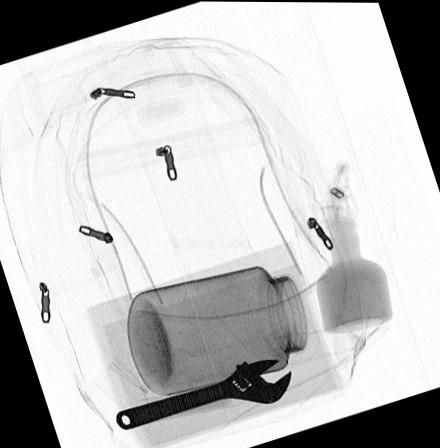Wrench: (112, 356, 294, 430)
